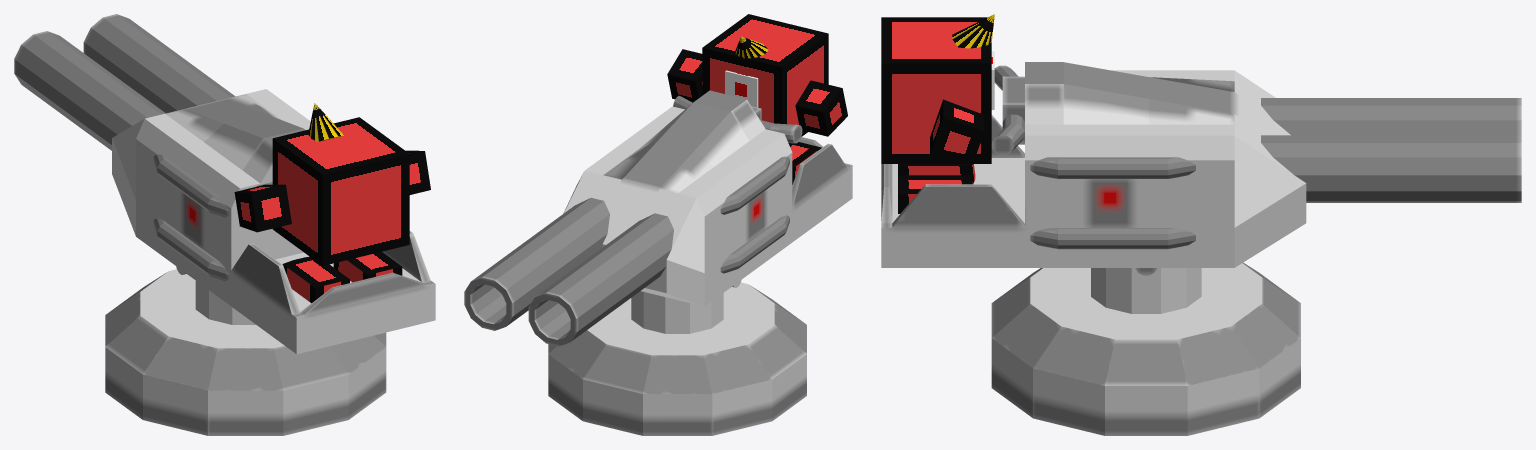
The model's file is akudo-fu+houdai-nirenhou.fbx.
The picture shows the model from 3 angles, left to right: view 1: azimuth 30°, elevation 25°; view 2: azimuth 150°, elevation 25°; view 3: azimuth 270°, elevation 25°; orthographic projection. The views are drawn at different scales.
Visible parts, largest first — view 1: cuboid_6, cylinder, cuboid, cylinder_5, cylinder_2, cuboid_4, cuboid_2, cylinder_6, cylinder_7, cuboid_1, cylinder_1, cuboid_3 (+1 smaller); view 2: cuboid_6, cylinder, cylinder_5, cylinder_2, cuboid, cylinder_1, cuboid_4, cuboid_3, cylinder_6, cylinder_7, cuboid_5, cylinder_4 (+2 smaller); view 3: cuboid_6, cylinder, cylinder_2, cuboid, cylinder_5, cylinder_1, cylinder_8, cylinder_9, cuboid_3, cylinder_4, cuboid_1, cuboid_7 (+2 smaller).
Boxes of the visible parts, x1,y1,x2,y2 form: cuboid_6: (112,89,435,354); cylinder: (105,269,386,435); cuboid: (272,117,409,265); cylinder_5: (14,31,165,150); cylinder_2: (83,14,235,113); cuboid_4: (234,184,291,232); cuboid_2: (282,256,349,303); cylinder_6: (153,154,228,217); cylinder_7: (153,218,228,281); cuboid_1: (333,251,402,282); cylinder_1: (195,281,255,324); cuboid_3: (405,150,430,194); cuboid_6: (563,90,852,306); cylinder: (548,282,806,435); cylinder_5: (528,213,673,346); cylinder_2: (464,197,609,330); cuboid: (702,14,828,145); cylinder_1: (631,291,723,333); cuboid_4: (795,80,847,136); cuboid_3: (667,49,702,102); cylinder_6: (720,156,789,214); cylinder_7: (720,215,789,273); cuboid_5: (725,70,758,107); cylinder_4: (673,96,802,143); cuboid_6: (881,62,1306,267); cylinder: (991,262,1300,435); cylinder_2: (1261,135,1521,202); cuboid: (881,17,991,163); cylinder_5: (1261,98,1521,135); cylinder_1: (1091,268,1201,313); cylinder_8: (1030,157,1195,178); cylinder_9: (1030,228,1195,249); cuboid_3: (930,99,984,164); cylinder_4: (991,65,1024,155); cuboid_1: (898,175,972,213); cuboid_7: (1002,76,1024,144).
Size of the model in its own units: 175 by 223 by 362.
